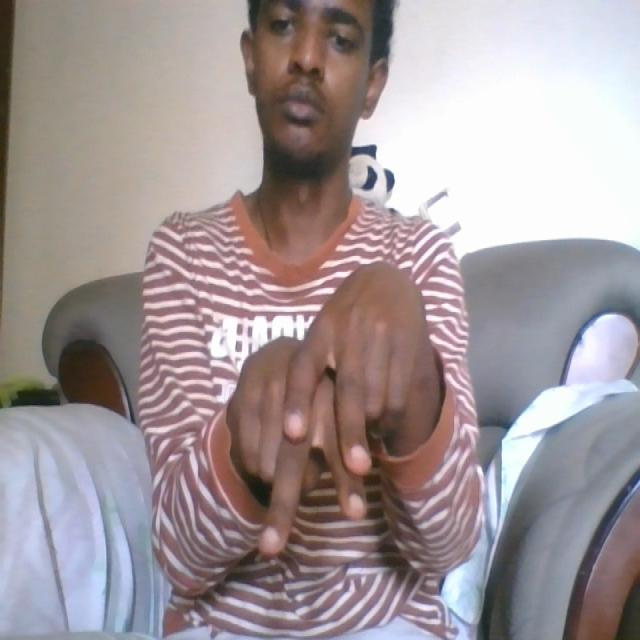babur: (223, 257, 428, 564)
